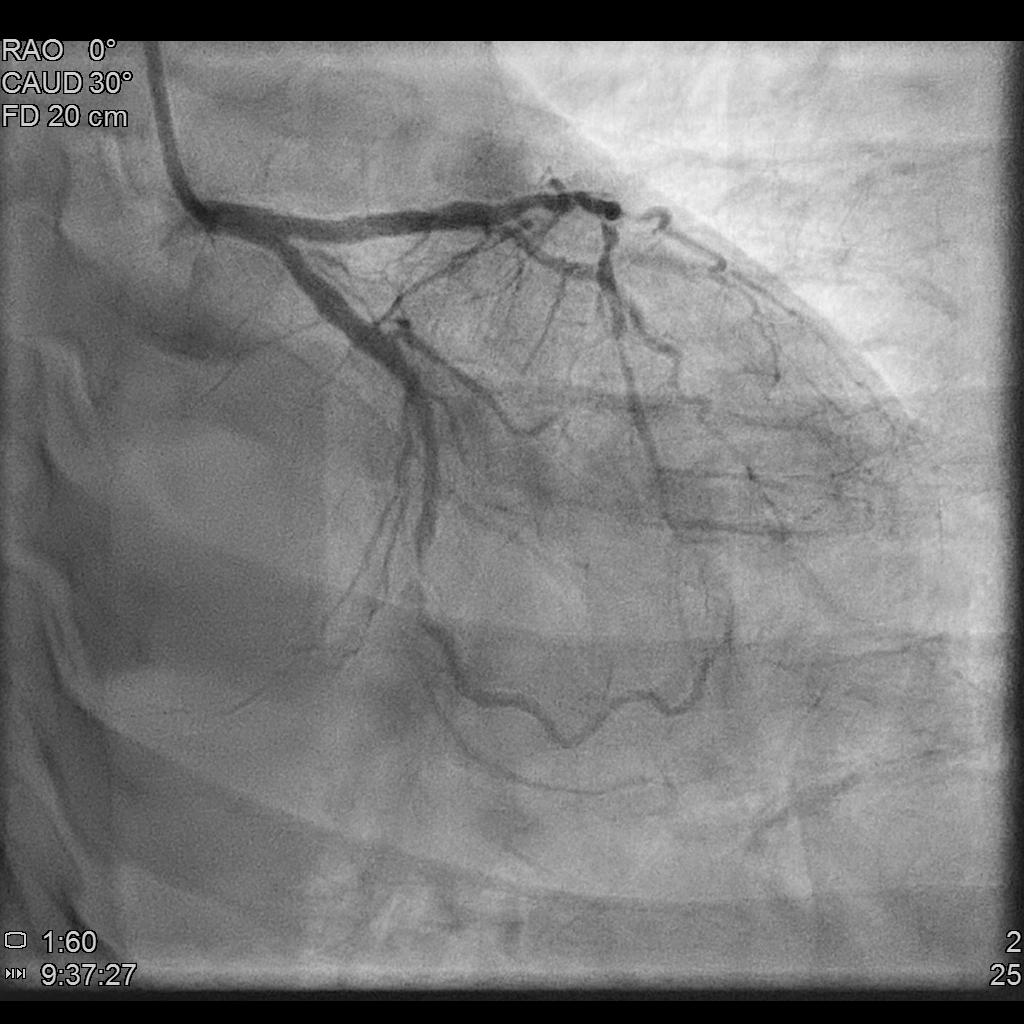block: (400, 514, 457, 627)
